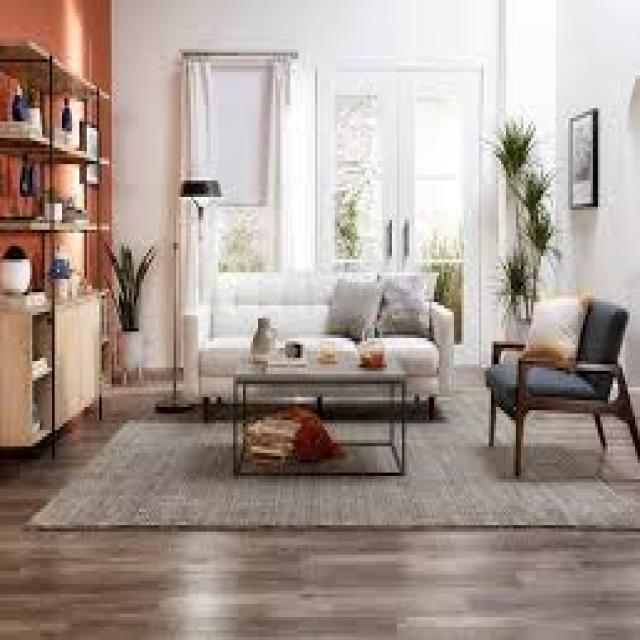Chair: (487, 296, 640, 485)
Lamp: (160, 160, 228, 290)
Sofa: (177, 271, 478, 419)
Table: (227, 347, 426, 500)
